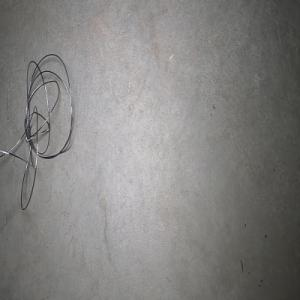Wire: (0, 53, 72, 210)
